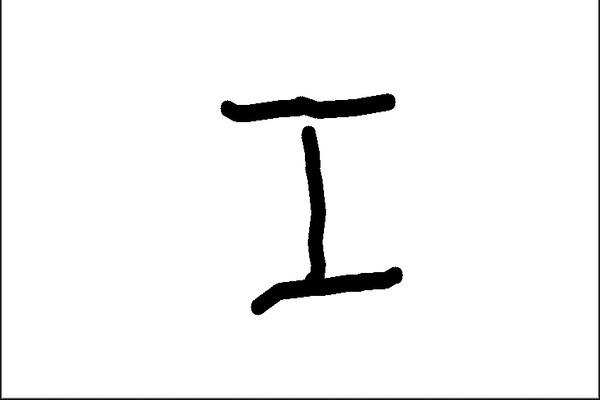i: (212, 86, 414, 318)
